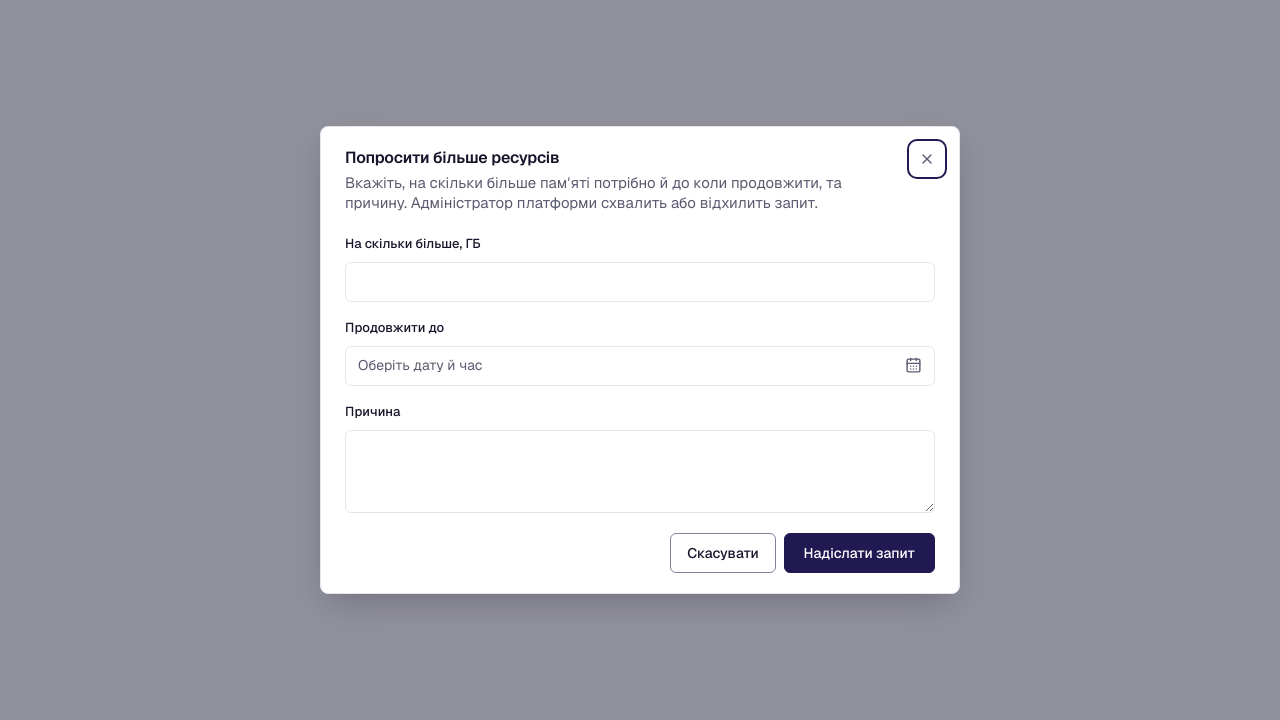
Test case: ChangeRequestDialog › shows 72514 inline
Type "1" into the field labelled "На скільки більше, ГБ" at (640,282), box top-left (345, 262), bottom-right (935, 302)
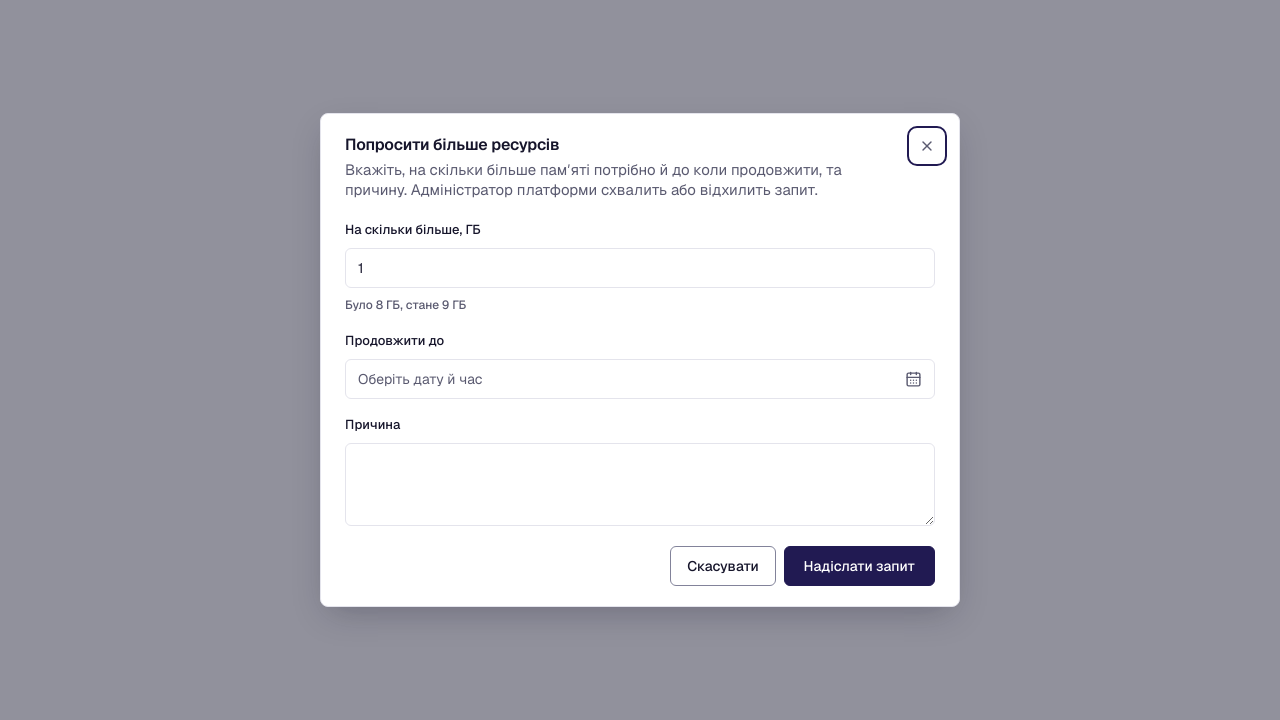
Type "x" into the text box labelled "Причина" at (640,485), box top-left (345, 443), bottom-right (935, 526)
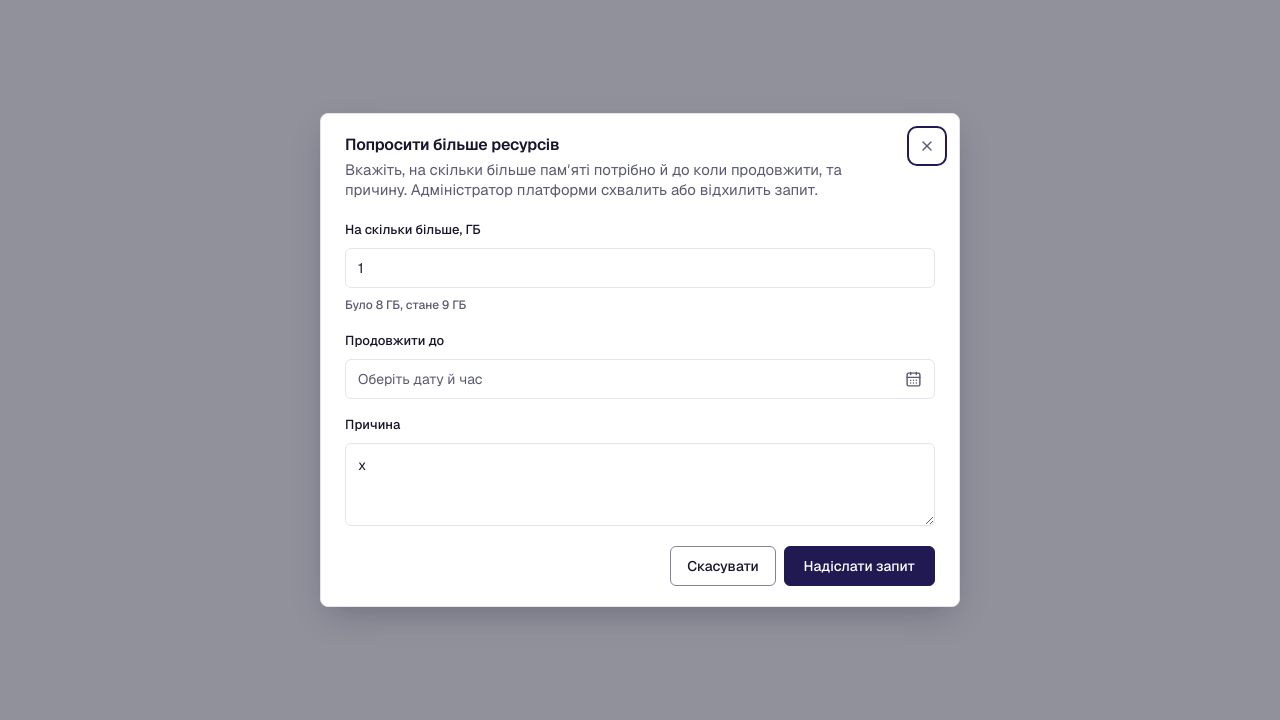
Click the button "Надіслати запит" at (859,566), box top-left (784, 546), bottom-right (935, 586)
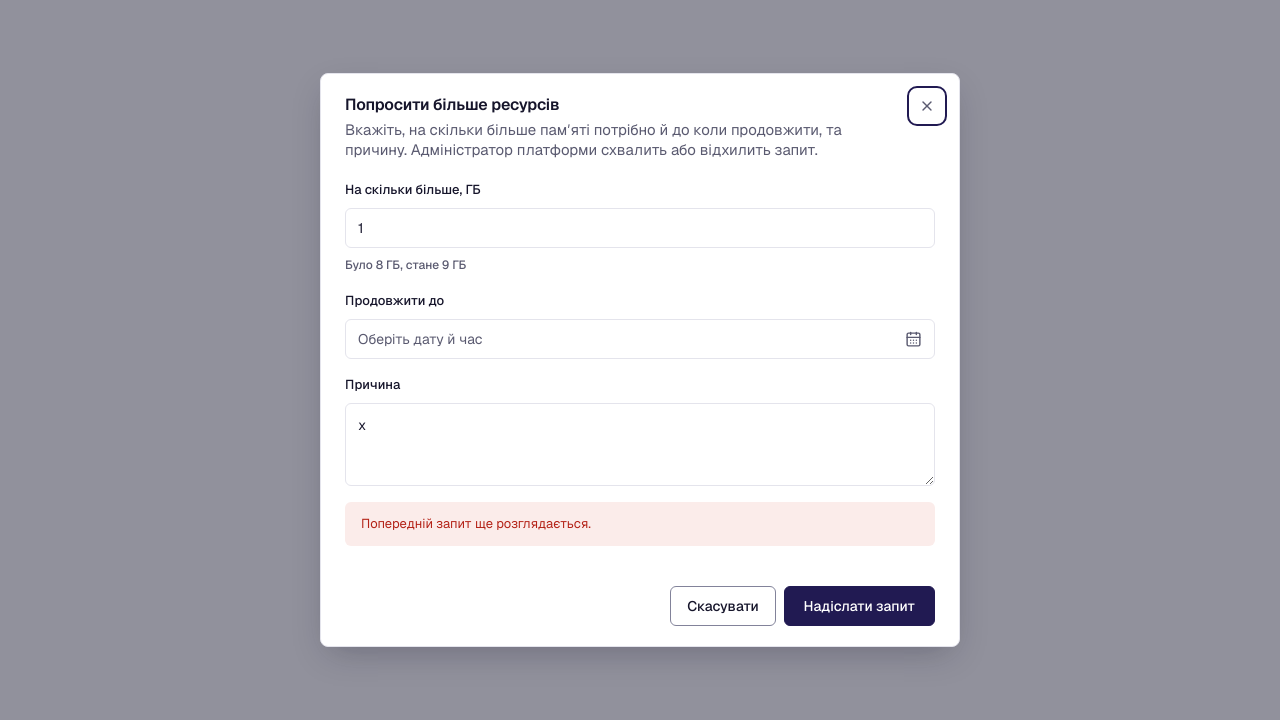
Check: the message reads "Попередній запит ще розглядається.", box top-left (361, 515), bottom-right (591, 532)
